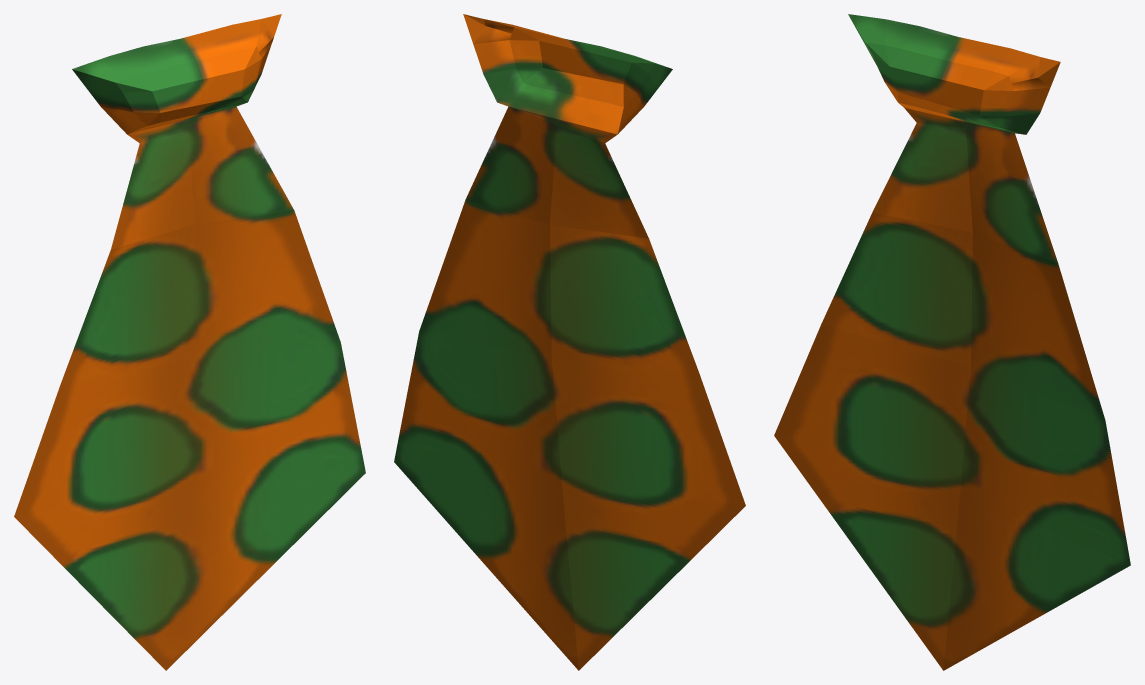
Rendered from half_windsor.fbx.
The picture shows the model from 3 angles, left to right: view 1: azimuth 30°, elevation 25°; view 2: azimuth 150°, elevation 25°; view 3: azimuth 330°, elevation 25°; orthographic projection.
Parts seen in each view (by area): view 1: o2; view 2: o2; view 3: o2.
Part boxes in pixels (x1,y1,x2,y2): o2: (14,14,365,670); o2: (394,14,745,670); o2: (774,14,1130,670).
Size of the model in its own units: 24.72 by 42.29 by 2.38.
1 material, 1 textured.
